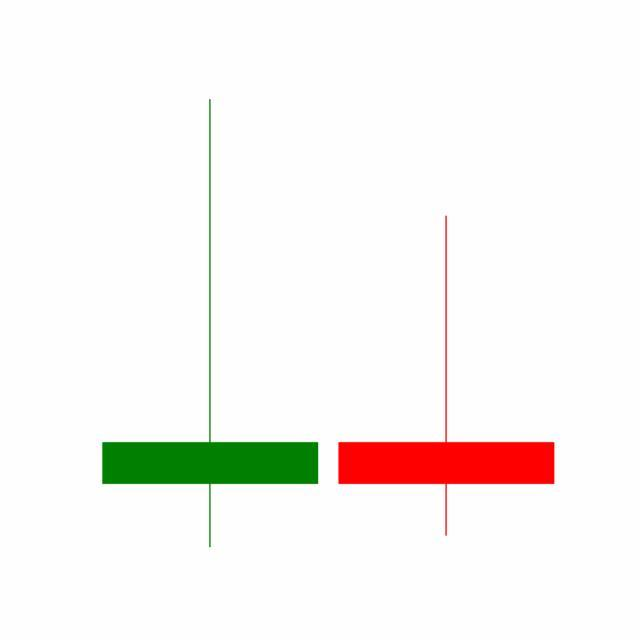Spinning Top: (328, 213, 566, 540)
